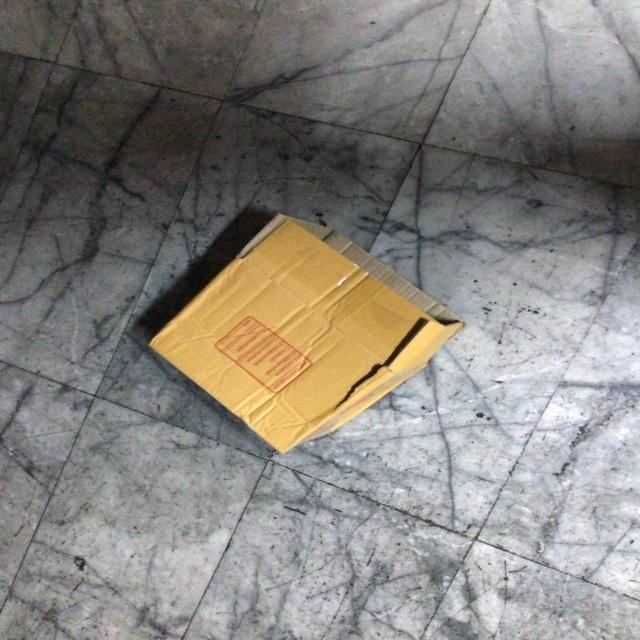cardboard: (149, 217, 462, 454)
